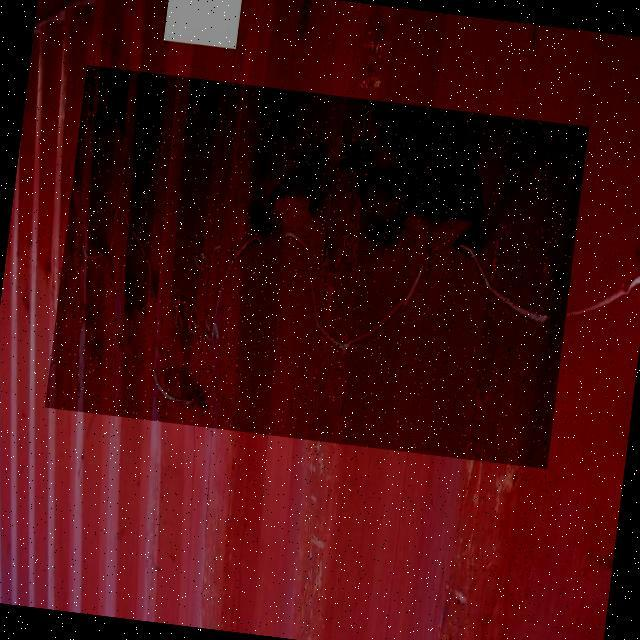Dent: (45, 65, 589, 469)
